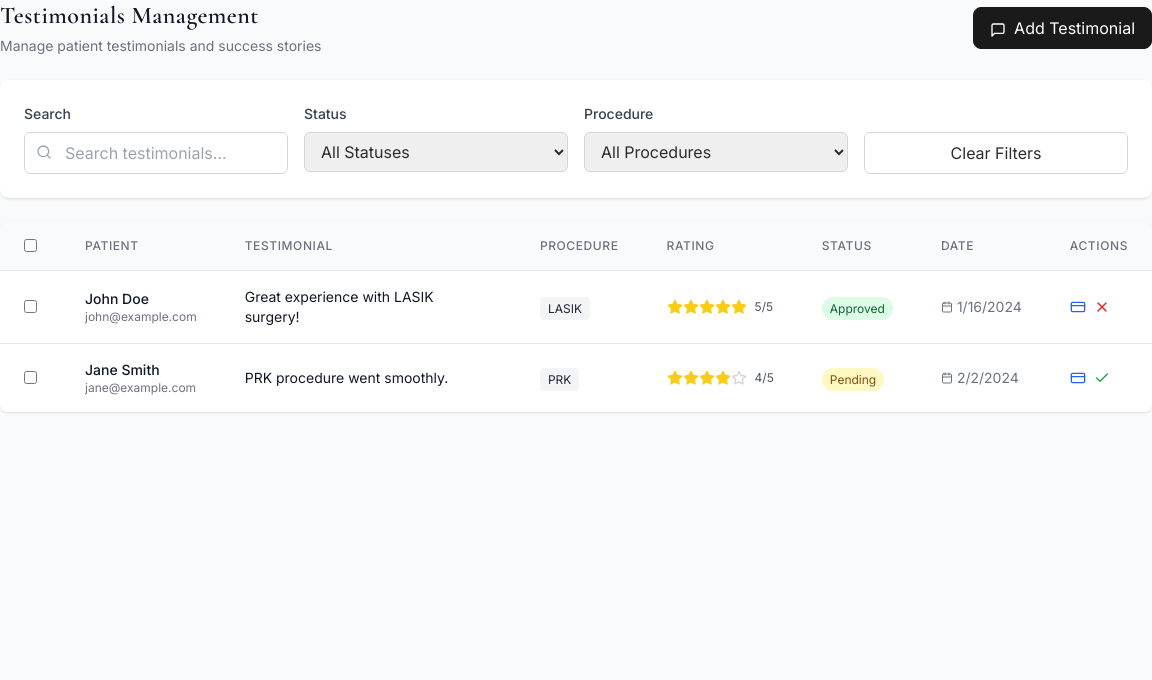
Test: TestimonialsManager › should open create modal
Click the button "Add Testimonial": {"x": 1063, "y": 28} x1=973 y1=7 x2=1151 y2=49
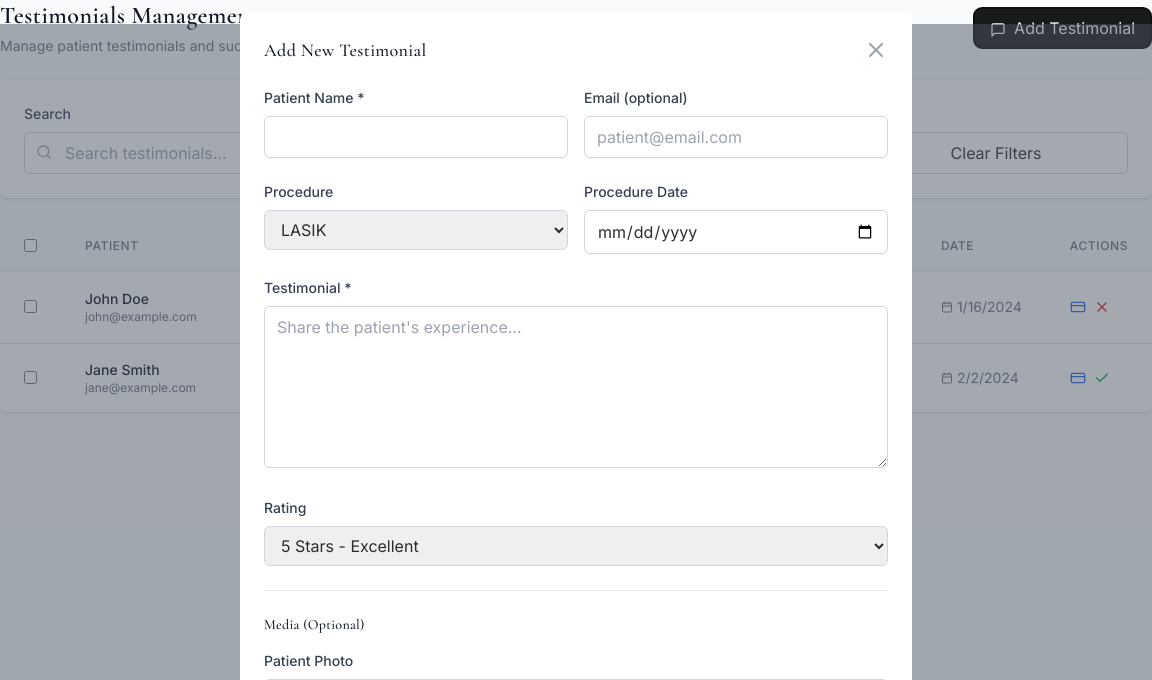
Expected: the heading "Add New Testimonial" is shown, x1=264 y1=36 x2=426 y2=64
